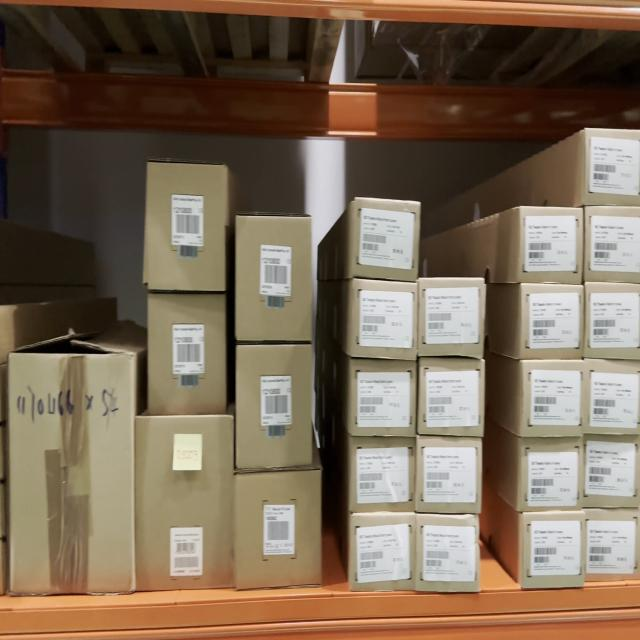box: (9, 357, 132, 592), (134, 417, 233, 588), (234, 472, 321, 586), (235, 214, 312, 340), (150, 163, 226, 289), (236, 344, 312, 467), (148, 294, 225, 414), (417, 359, 484, 437), (417, 437, 482, 515), (348, 513, 415, 588), (350, 359, 416, 435), (353, 280, 417, 358), (348, 436, 415, 510), (519, 207, 583, 284), (354, 202, 418, 278), (519, 436, 584, 510), (519, 362, 585, 434), (518, 286, 584, 358), (420, 278, 484, 352), (521, 515, 585, 588), (418, 515, 478, 589), (585, 126, 640, 203), (584, 208, 640, 281), (586, 361, 640, 434), (583, 438, 640, 507), (585, 286, 640, 357), (586, 509, 640, 580)
